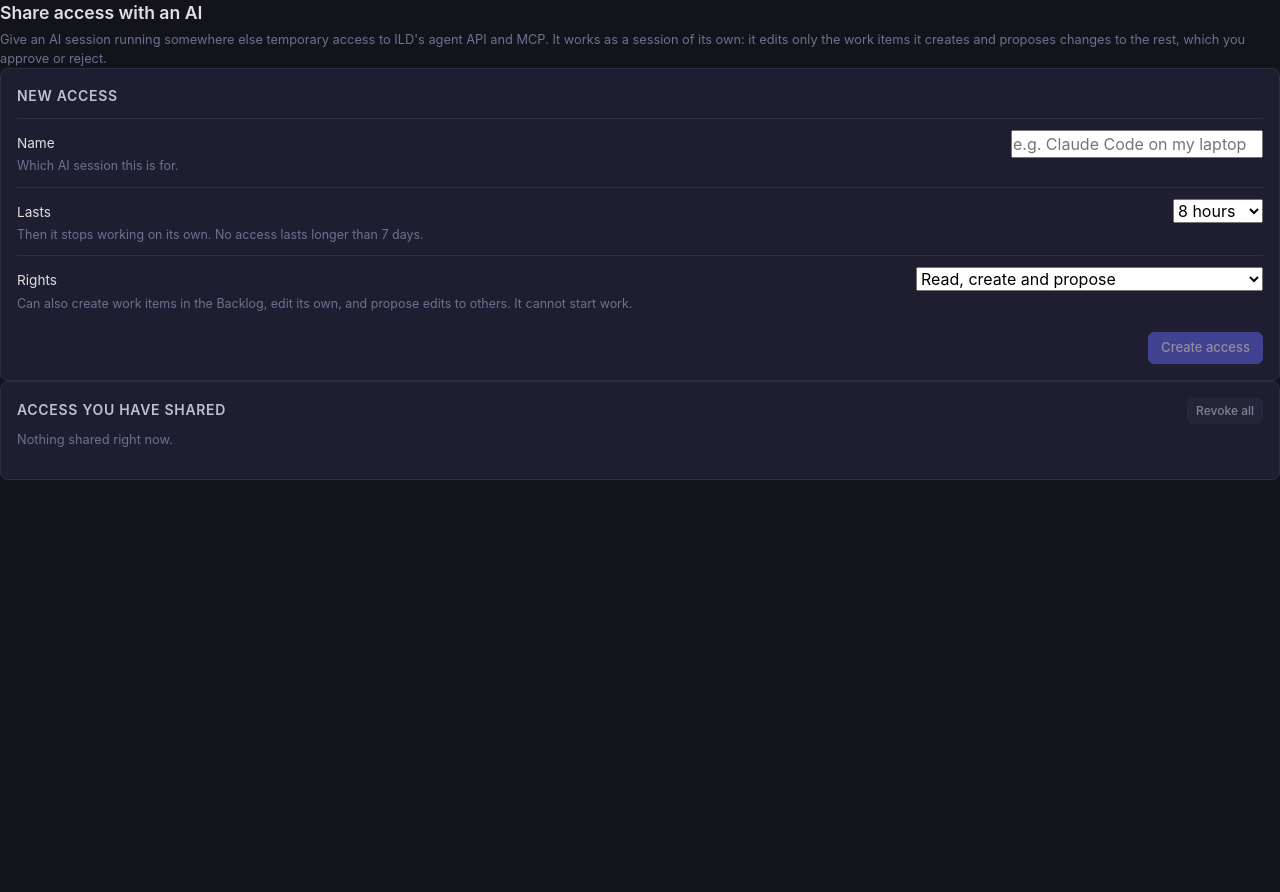
Test: Share access with an AI › offers control of work, says what it allows before it is picked, and creates with it
The width and height of the screenshot is (1280, 892).
Select "Control of work (start, reorder and answer)" in the dropdown labelled "Rights". click: coordinates (1090, 280)
box: [916,268,1263,292]
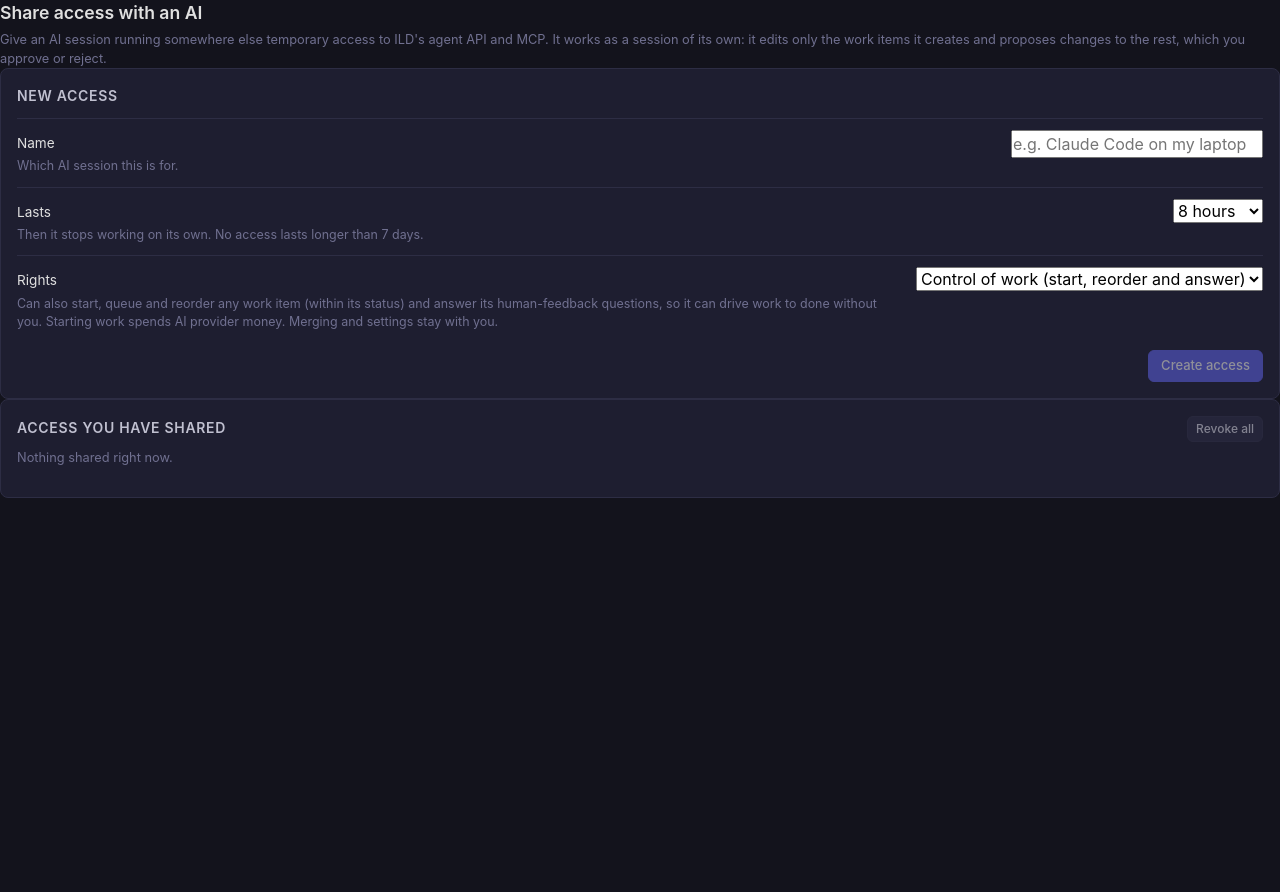
Expected: the text "spends AI provider money" is shown, [17,296,877,329]
Type "Driver" into the field labelled "Name". click: coordinates (1137, 144)
box: [1011,130,1263,158]
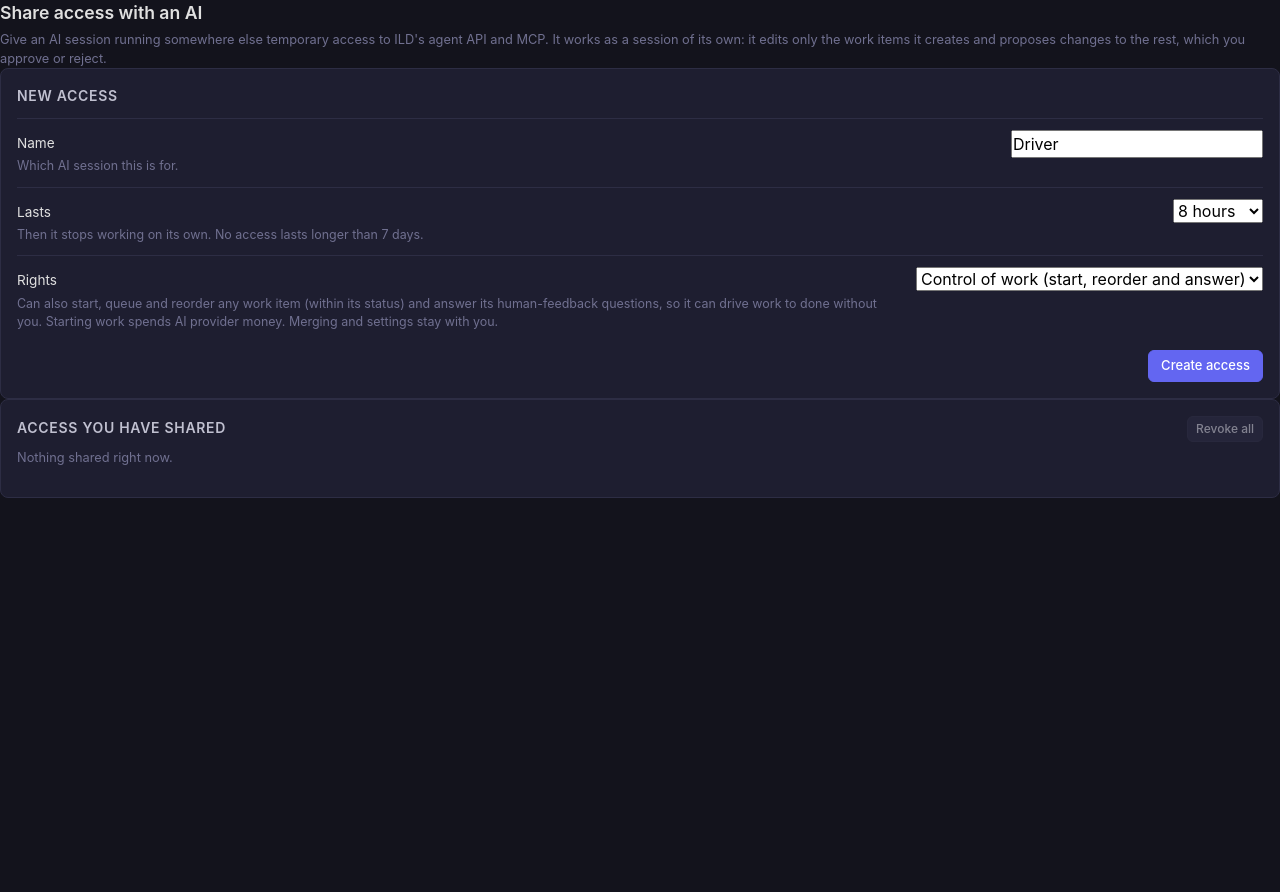
Click the button "Create access". click: coordinates (1206, 366)
box: [1148,350,1263,382]
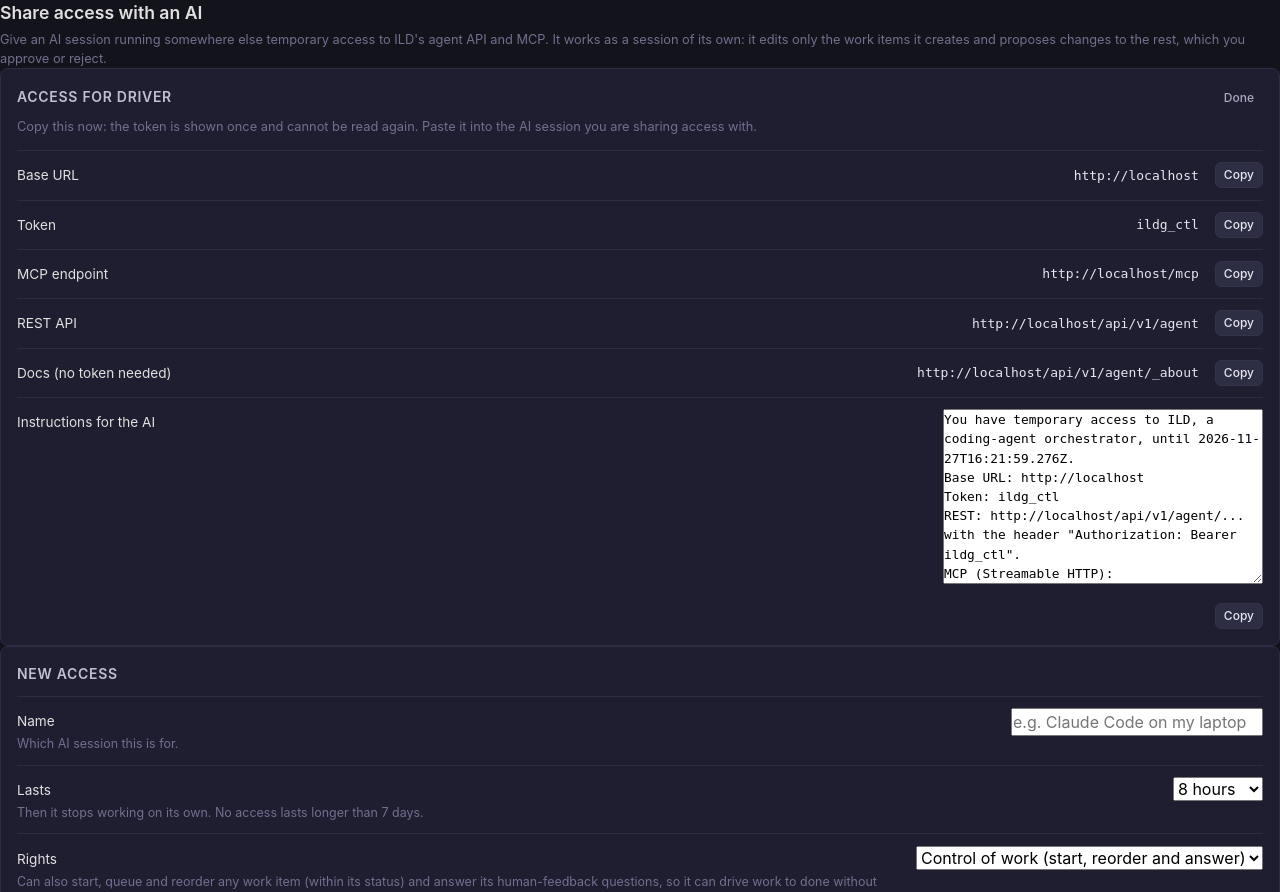
Expected: the heading "Access for Driver" is shown, [17,86,172,107]
